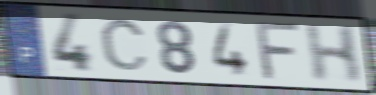4: (49, 12, 96, 74), (211, 22, 251, 79)
8: (155, 19, 199, 75)
C: (98, 17, 151, 73)
F: (255, 21, 305, 82)
H: (303, 24, 364, 85)
